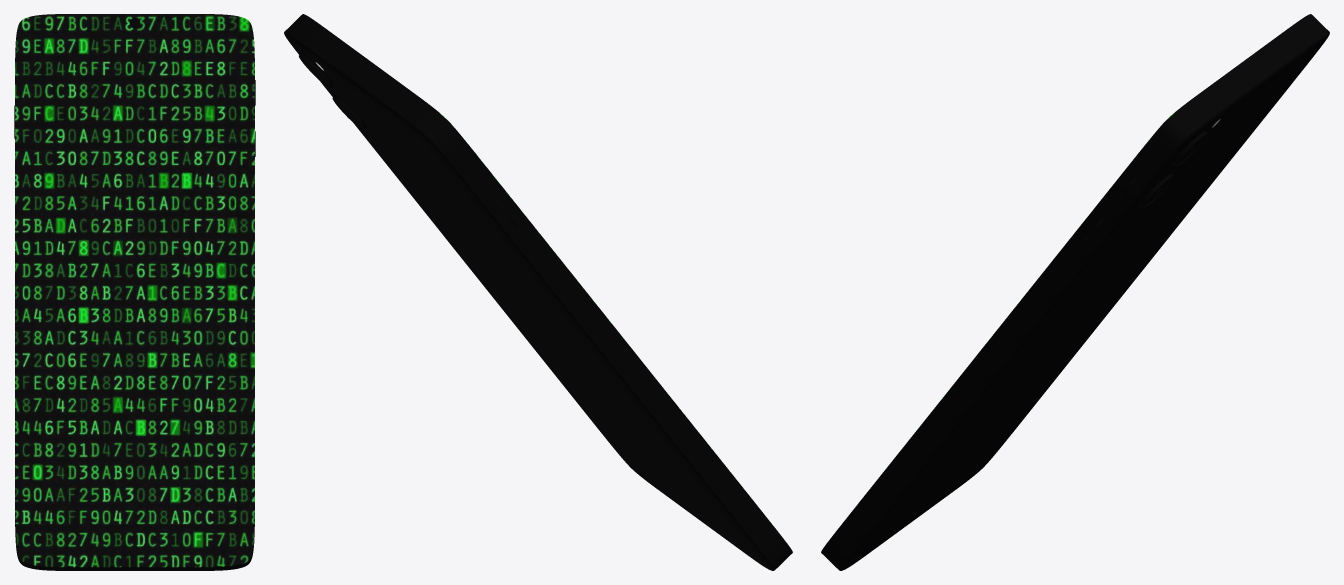
Rendered from smartphone_hacker.glb.
The picture shows the model from 3 angles, left to right: view 1: azimuth 30°, elevation 25°; view 2: azimuth 150°, elevation 25°; view 3: azimuth 270°, elevation 25°; orthographic projection. The views are drawn at different scales.
Visible parts, largest first — view 1: SMARTPHONE_HACKER; view 2: SMARTPHONE_HACKER, BACK-CAM; view 3: SMARTPHONE_HACKER, BACK-CAM.
Boxes of the visible parts, box(x1,y1,x2,y2) form: SMARTPHONE_HACKER: box(15, 14, 254, 570); SMARTPHONE_HACKER: box(284, 14, 792, 570); BACK-CAM: box(299, 52, 367, 130); SMARTPHONE_HACKER: box(821, 14, 1329, 570); BACK-CAM: box(1139, 130, 1208, 208).
Size of the model in its own units: 3.04 by 3.93 by 3.34.
6 materials, 1 textured.
